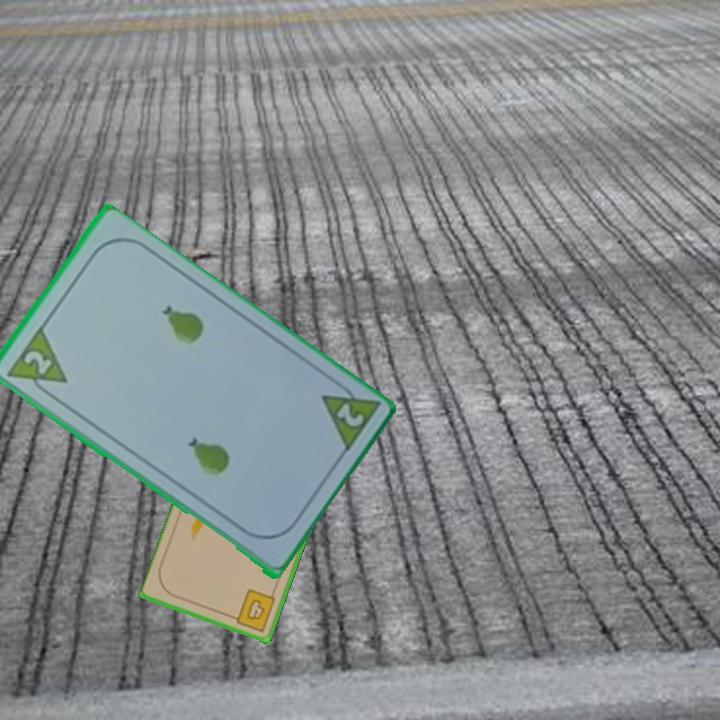2p: (316, 375, 382, 457), (19, 346, 54, 379)
4b: (227, 585, 279, 635)
